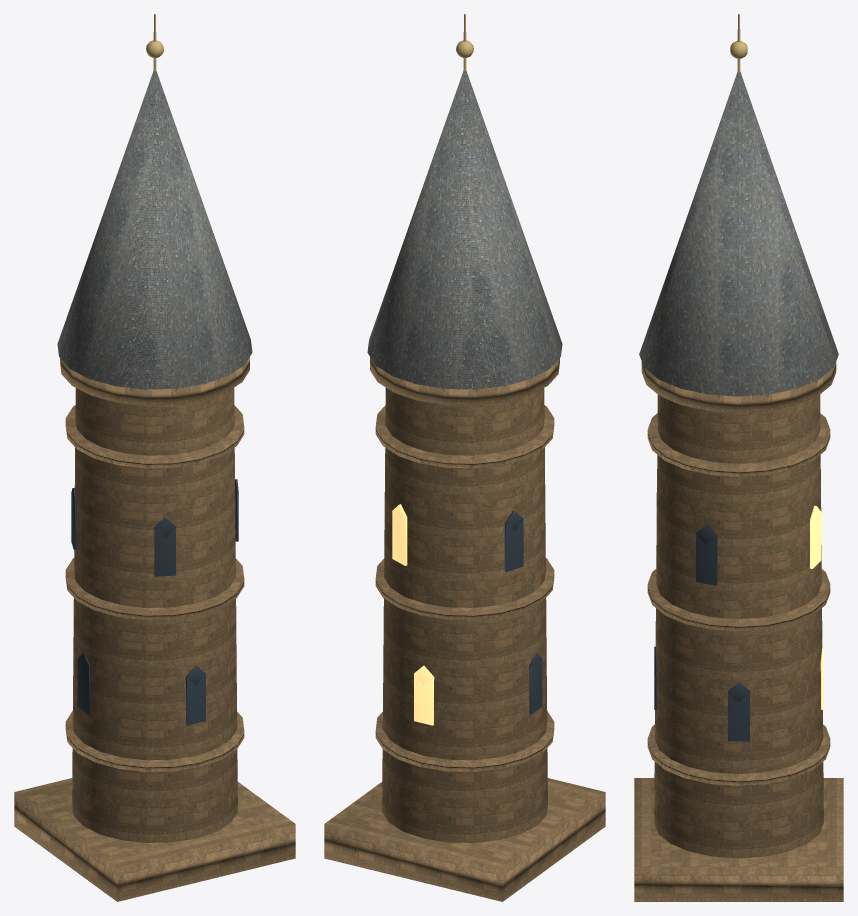
File: tower_round.glb
3 renders of one model, left to right at view 1: azimuth 30°, elevation 25°; view 2: azimuth 150°, elevation 25°; view 3: azimuth 270°, elevation 25°, orthographic.
Visible parts, largest first — view 1: tower_round; view 2: tower_round; view 3: tower_round.
Boxes of the visible parts, x1,y1,x2,y2 form: tower_round: (14,14,295,901); tower_round: (324,14,605,901); tower_round: (634,14,843,901).
Size of the model in its own units: 8.6 by 38.2 by 8.6.
Materials: 5 (2 with a texture image).
